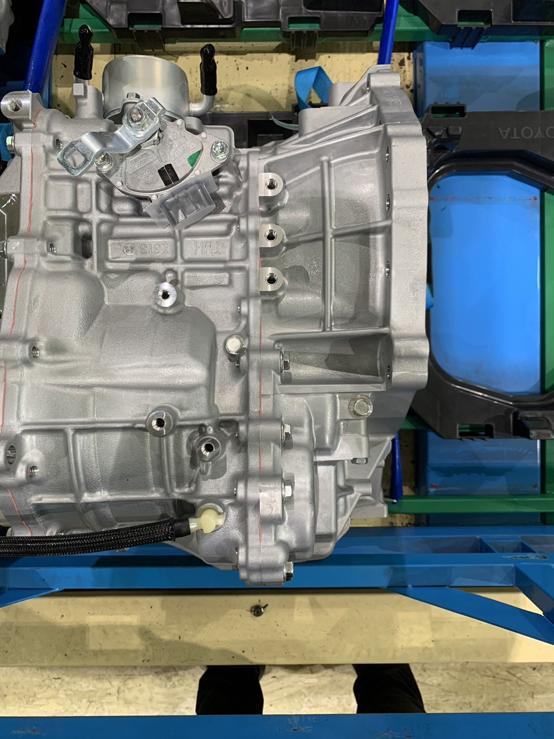gearbox_type1: (1, 74, 429, 586)
gearbox_type1_FP1: (253, 168, 286, 200)
gearbox_type1_FP2: (255, 222, 289, 252)
gearbox_type1_FP3: (1, 89, 34, 124)
